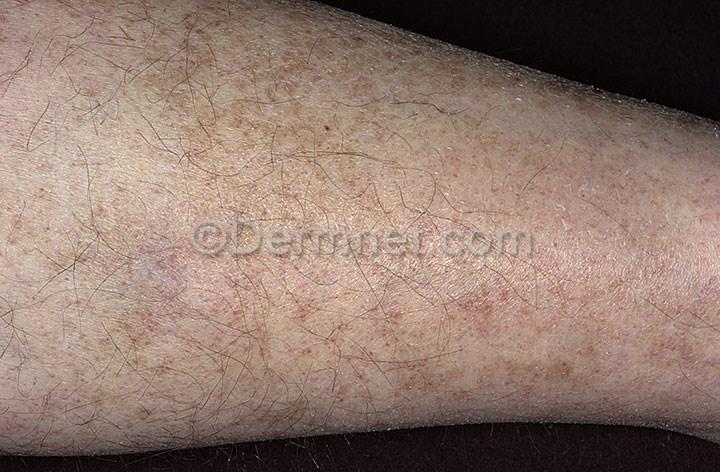Eczema: (132, 88, 230, 196), (467, 328, 590, 406), (431, 133, 538, 218), (429, 261, 540, 342), (363, 290, 462, 379), (277, 185, 354, 296), (584, 289, 663, 395), (359, 195, 449, 285), (239, 86, 326, 178), (245, 0, 333, 90), (159, 6, 243, 91), (481, 65, 582, 135), (200, 207, 270, 305), (41, 191, 117, 280), (336, 25, 407, 118), (342, 129, 437, 196), (199, 300, 290, 369), (104, 280, 197, 345), (120, 201, 189, 284), (414, 52, 489, 124), (302, 375, 401, 427), (291, 301, 363, 370)
